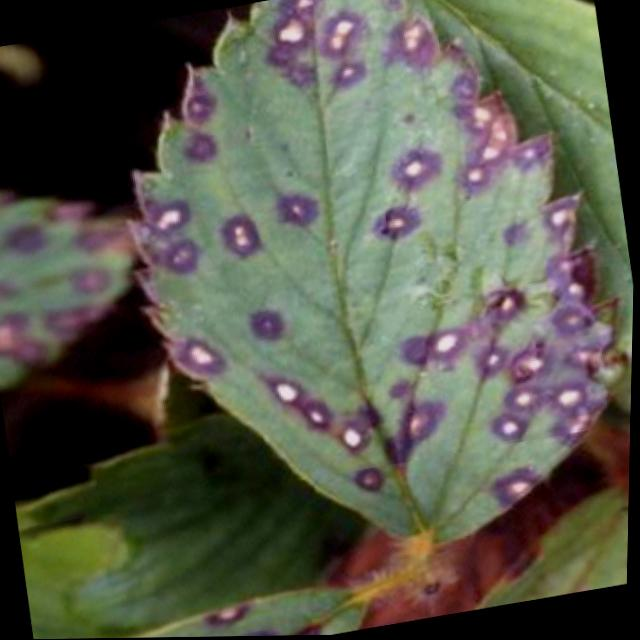Leaf Spot: (130, 0, 626, 556), (0, 191, 145, 392), (469, 489, 631, 613), (130, 586, 372, 638)
